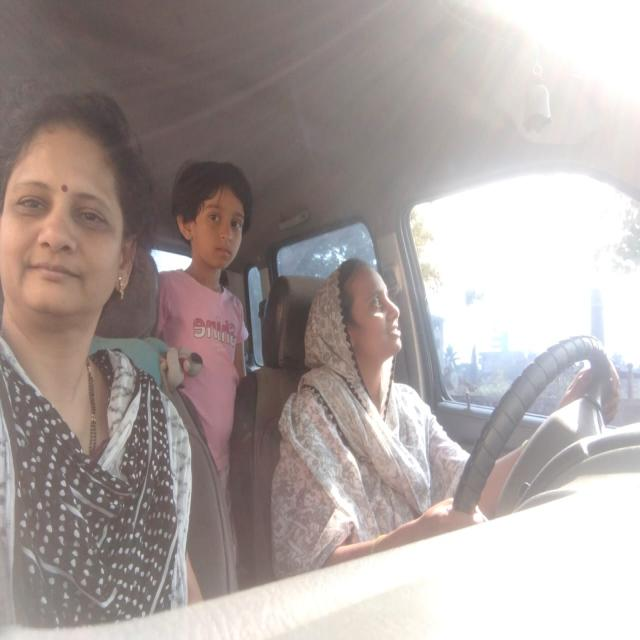person: (0, 87, 153, 334), (171, 156, 251, 276), (324, 255, 405, 371)
